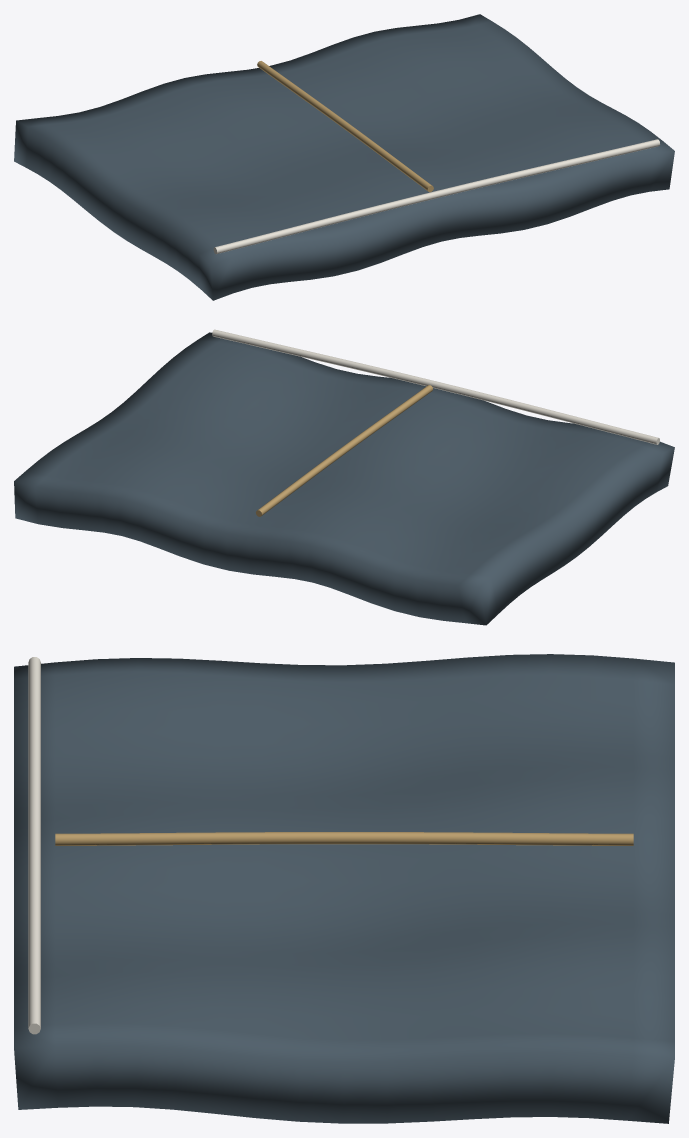
File: sku_folded_trousers.glb
3 views of the same model, one above another, from view 1: azimuth 30°, elevation 25°; view 2: azimuth 150°, elevation 25°; view 3: azimuth 270°, elevation 25° (orthographic). The views are drawn at different scales.
Visible parts, largest first — view 1: sku_folded_trousers_Woven_0, sku_folded_trousers_FY21_chalk_lacquer, sku_folded_trousers_Satin_champagne; view 2: sku_folded_trousers_Woven_0, sku_folded_trousers_FY21_chalk_lacquer, sku_folded_trousers_Satin_champagne; view 3: sku_folded_trousers_Woven_0, sku_folded_trousers_Satin_champagne, sku_folded_trousers_FY21_chalk_lacquer.
Boxes of the visible parts, bbox=[...] form: sku_folded_trousers_Woven_0: bbox=[14, 14, 674, 300]; sku_folded_trousers_FY21_chalk_lacquer: bbox=[213, 139, 659, 254]; sku_folded_trousers_Satin_champagne: bbox=[257, 61, 433, 192]; sku_folded_trousers_Woven_0: bbox=[14, 332, 674, 625]; sku_folded_trousers_FY21_chalk_lacquer: bbox=[212, 329, 659, 444]; sku_folded_trousers_Satin_champagne: bbox=[256, 385, 432, 516]; sku_folded_trousers_Woven_0: bbox=[14, 654, 674, 1123]; sku_folded_trousers_Satin_champagne: bbox=[55, 832, 633, 845]; sku_folded_trousers_FY21_chalk_lacquer: bbox=[28, 657, 40, 1034].
Size of the model in its own units: 0.4447 by 0.0558 by 0.32.
